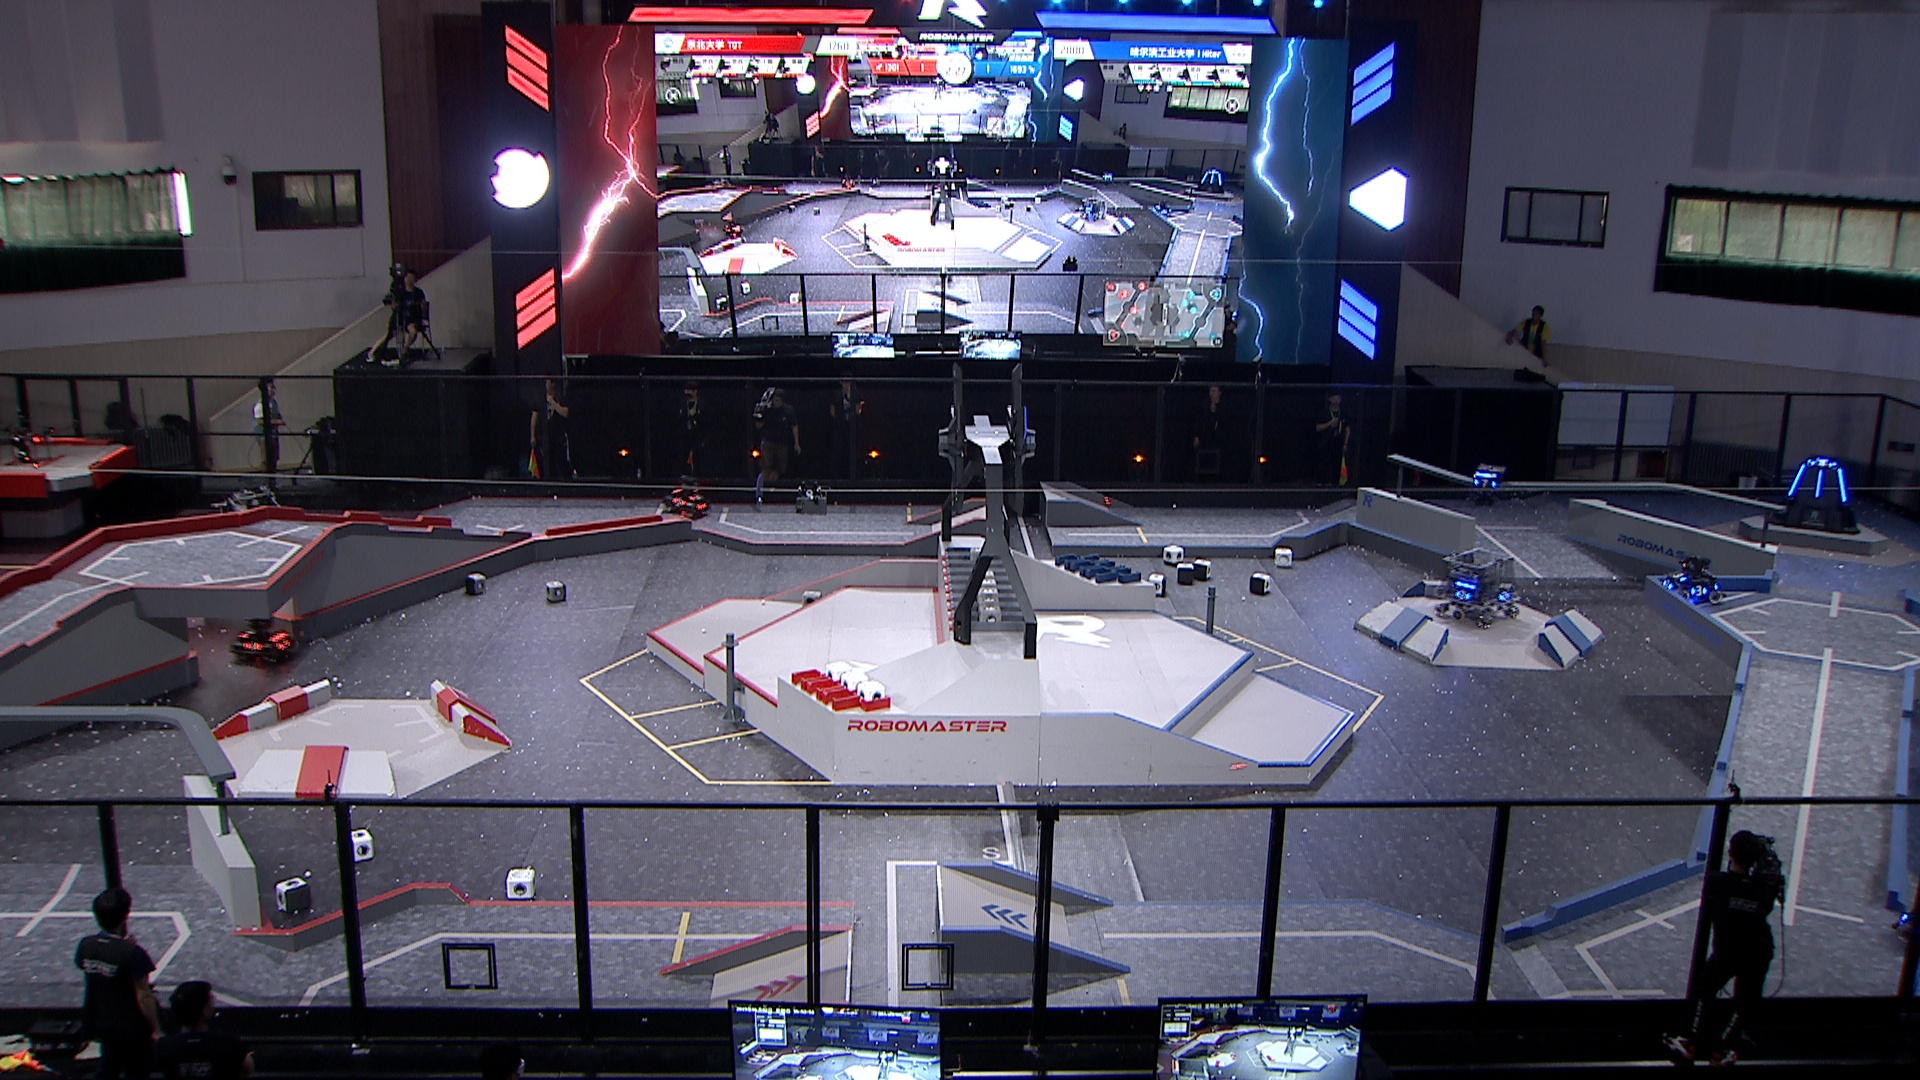armor: (1784, 462, 1807, 500), (1832, 465, 1849, 504), (1813, 467, 1826, 501), (1472, 476, 1499, 491), (1808, 456, 1836, 469), (1688, 582, 1708, 599), (1453, 588, 1476, 603), (237, 624, 257, 640), (273, 636, 291, 651), (240, 640, 264, 651), (1671, 568, 1688, 584), (1494, 588, 1513, 603), (684, 489, 704, 502), (669, 495, 686, 508), (1662, 575, 1676, 589), (692, 501, 708, 512)
base: (1762, 451, 1865, 537)
car: (1433, 542, 1524, 628), (204, 487, 295, 568), (228, 607, 305, 669), (1658, 555, 1726, 608), (659, 475, 713, 522)
ignore: (1077, 195, 1109, 225), (1193, 167, 1226, 196), (721, 218, 746, 239), (1153, 196, 1174, 220), (1096, 167, 1116, 185)
watcher: (1462, 456, 1514, 509)
